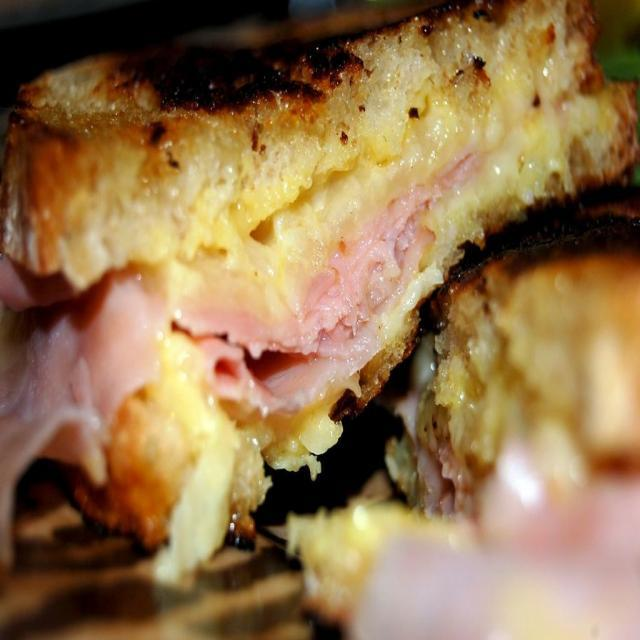Sandwich: (0, 0, 639, 639), (283, 198, 639, 640)
